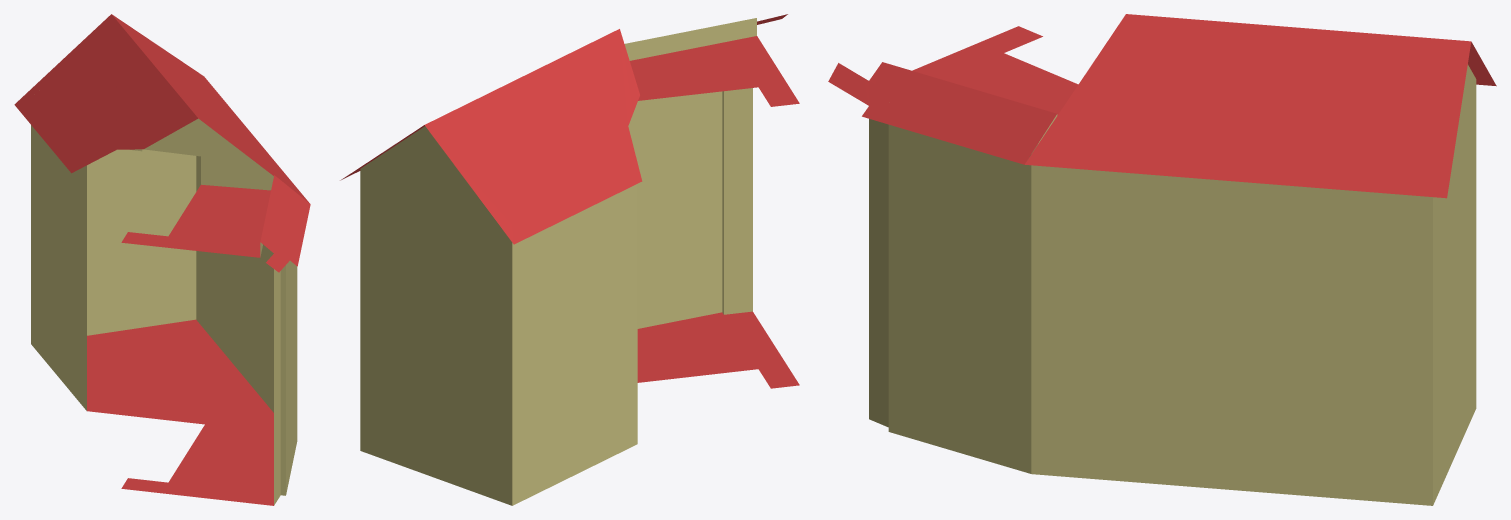
The picture shows the model from 3 angles, left to right: view 1: azimuth 30°, elevation 25°; view 2: azimuth 150°, elevation 25°; view 3: azimuth 270°, elevation 25°; orthographic projection. The views are drawn at different scales.
Size of the model in its own units: 10.69 by 19.02 by 13.14.
